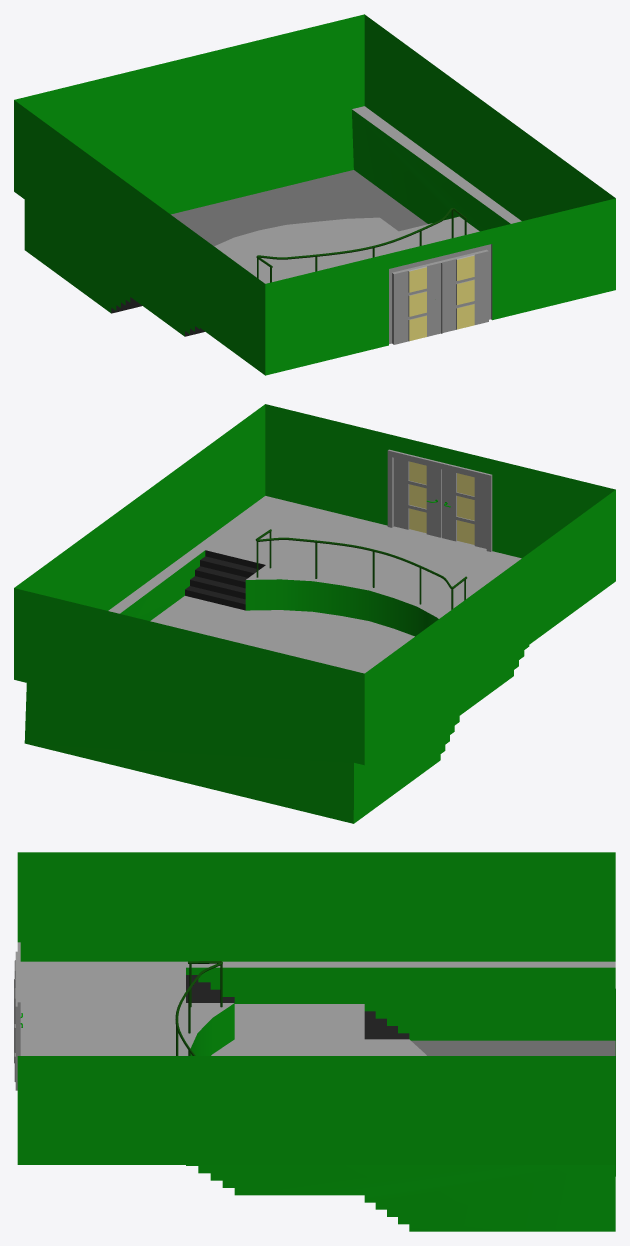
The model's file is Room.FBX.
The picture shows the model from 3 angles, top to bottom: view 1: azimuth 30°, elevation 25°; view 2: azimuth 150°, elevation 25°; view 3: azimuth 270°, elevation 25°; orthographic projection. The views are drawn at different scales.
Parts seen in each view (by area): view 1: room; view 2: room; view 3: room.
Boxes of the visible parts, x1,y1,x2,y2 form: room: [14, 14, 615, 375]; room: [14, 404, 615, 823]; room: [14, 852, 615, 1231].
Size of the model in its own units: 472 by 197 by 590.
